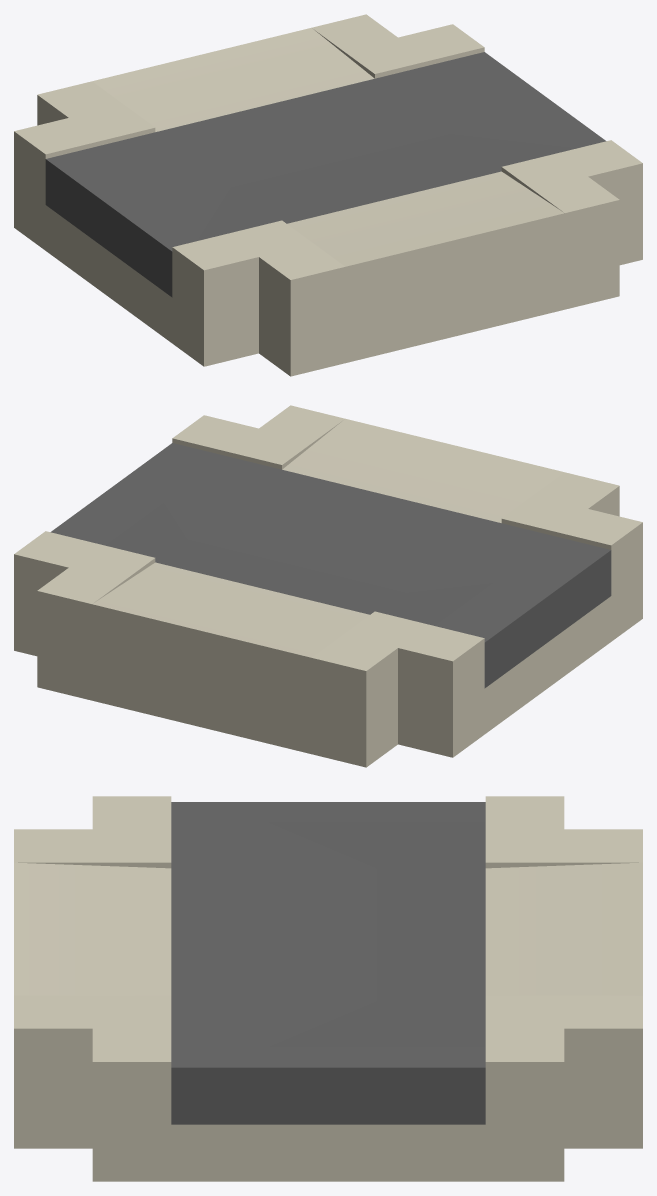
The model's file is roadTile_137.obj.
3 renders of one model, top to bottom at view 1: azimuth 30°, elevation 25°; view 2: azimuth 150°, elevation 25°; view 3: azimuth 270°, elevation 25°, orthographic. The views are drawn at different scales.
Parts seen in each view (by area): view 1: roadTile_137; view 2: roadTile_137; view 3: roadTile_137.
Boxes of the visible parts, <box> form: roadTile_137: <box>14,14,642,376</box>; roadTile_137: <box>14,405,642,767</box>; roadTile_137: <box>14,796,642,1181</box>.
Size of the model in its own units: 3 by 0.63 by 3.
